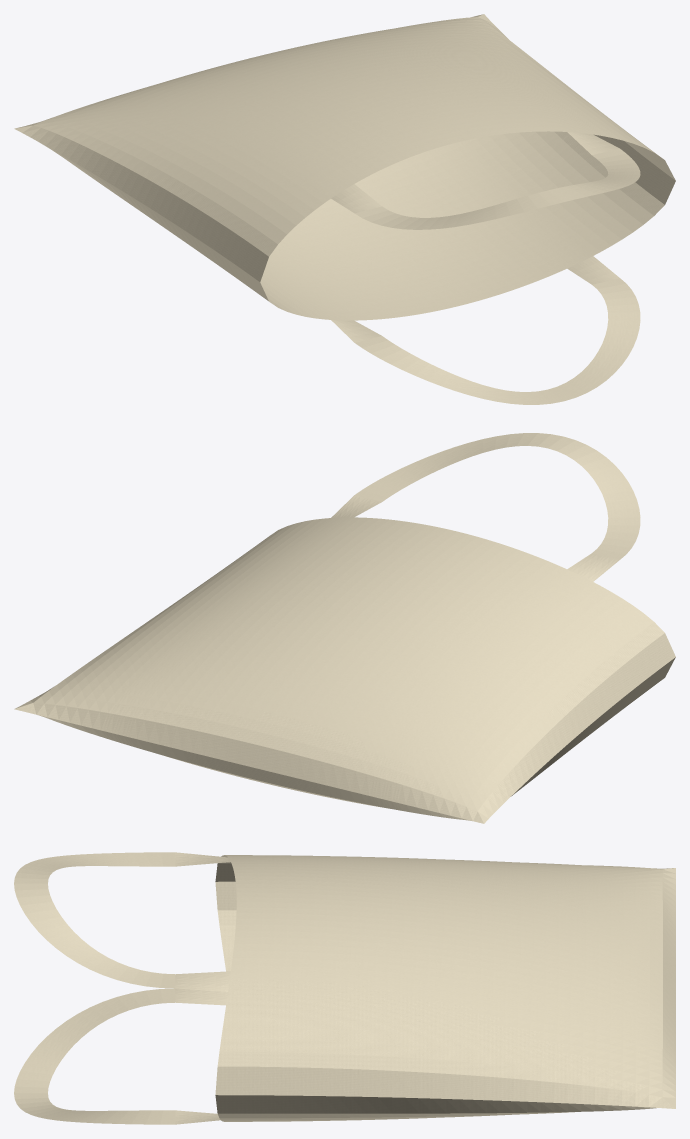
The model's file is two_panel_bag.obj.
The picture shows the model from 3 angles, top to bottom: view 1: azimuth 30°, elevation 25°; view 2: azimuth 150°, elevation 25°; view 3: azimuth 270°, elevation 25°; orthographic projection. The views are drawn at different scales.
Size of the model in its own units: 0.42 by 0.17 by 0.4871.
1 material, 1 textured.
